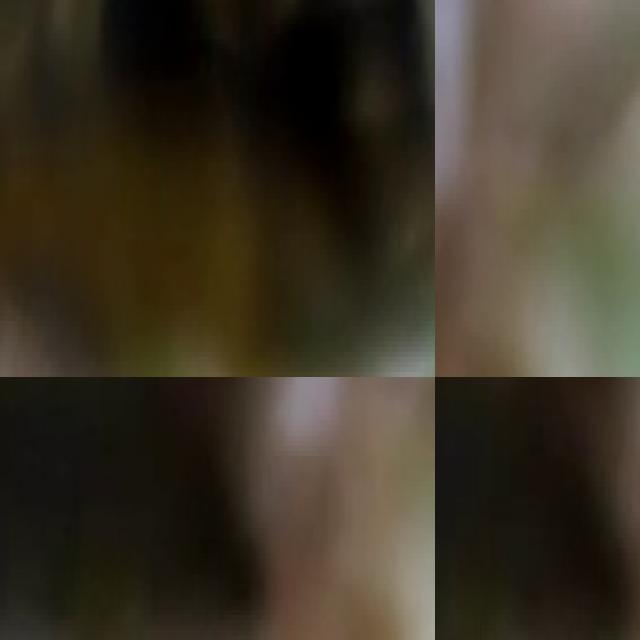fish: (0, 0, 435, 377), (0, 377, 289, 640), (435, 377, 640, 640)
